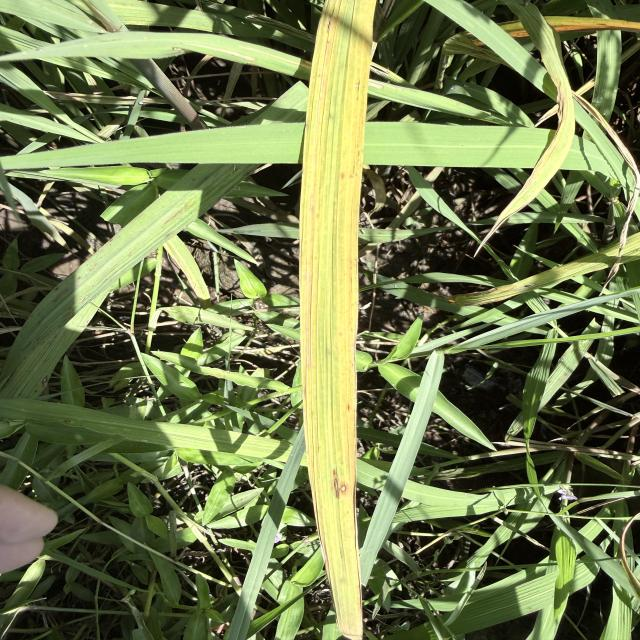Chay bia la: (299, 230, 364, 640)
